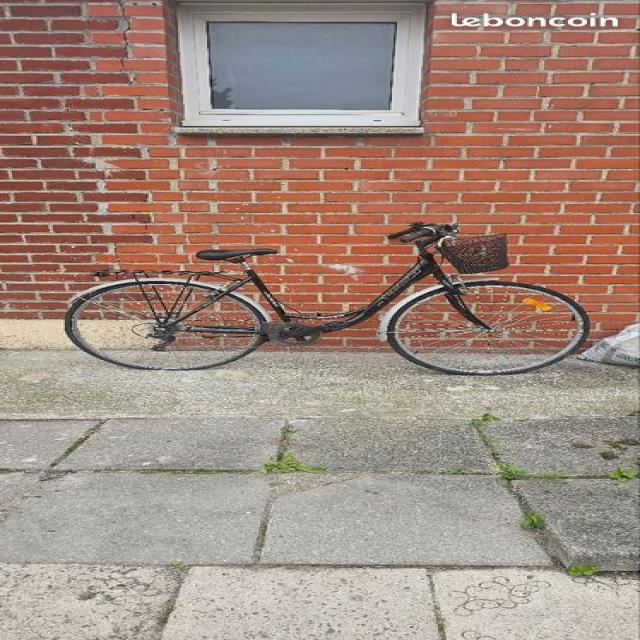Bike: (64, 223, 590, 376)
